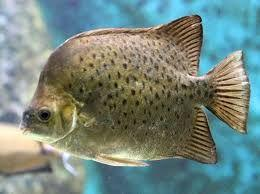Scat Fish: (16, 13, 251, 172)
